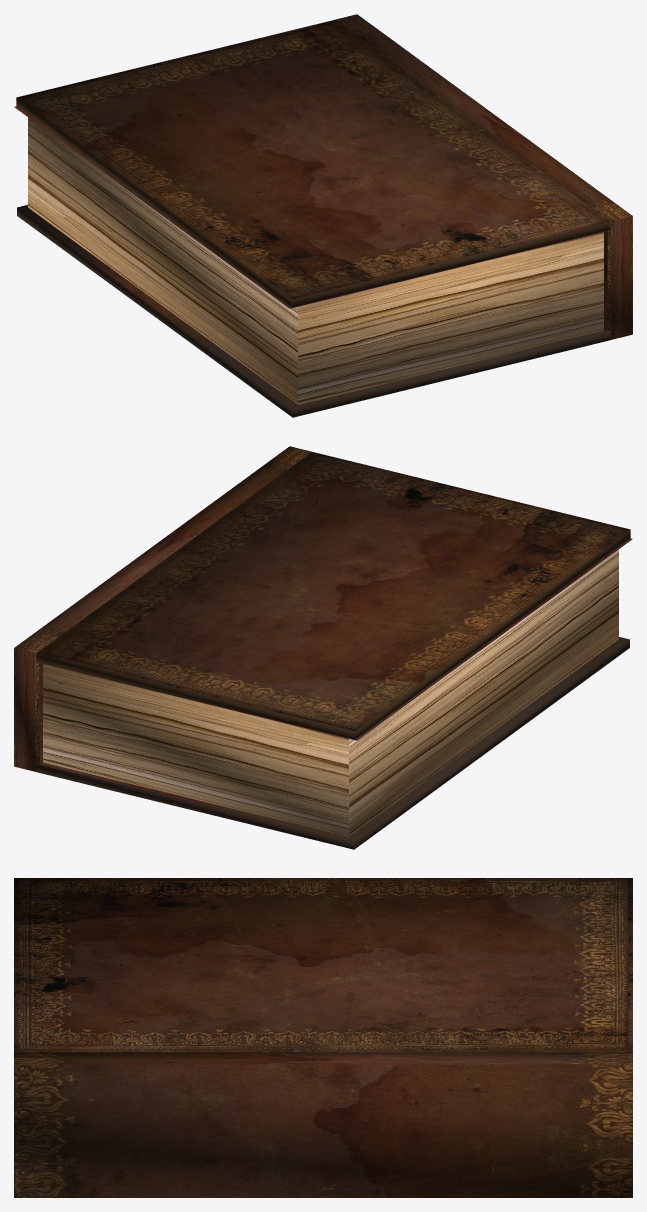
Rendered from book.fbx.
3 renders of one model, top to bottom at view 1: azimuth 30°, elevation 25°; view 2: azimuth 150°, elevation 25°; view 3: azimuth 270°, elevation 25°, orthographic. The views are drawn at different scales.
Visible parts, largest first — view 1: front_cover, pages, hinge, back_cover, cover_Inside; view 2: front_cover, pages, hinge, back_cover, cover_Inside; view 3: front_cover, hinge.
Part boxes in pixels (x1,y1,x2,y2): front_cover: (16, 20, 610, 307); pages: (28, 117, 603, 404); hinge: (335, 14, 632, 339); back_cover: (17, 205, 610, 417); cover_Inside: (14, 106, 607, 373); front_cover: (36, 452, 630, 739); pages: (43, 549, 618, 836); hinge: (14, 446, 311, 771); back_cover: (35, 637, 629, 849); cover_Inside: (39, 538, 632, 840); front_cover: (14, 878, 632, 1052); hinge: (14, 1052, 632, 1197).
Size of the model in its own units: 113 by 37.22 by 157.
2 materials, 2 textured.
